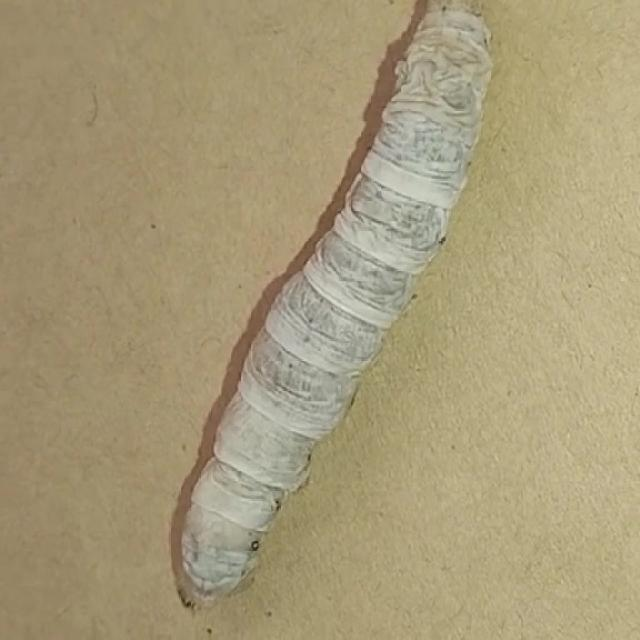Grasserie: (163, 6, 497, 616)
